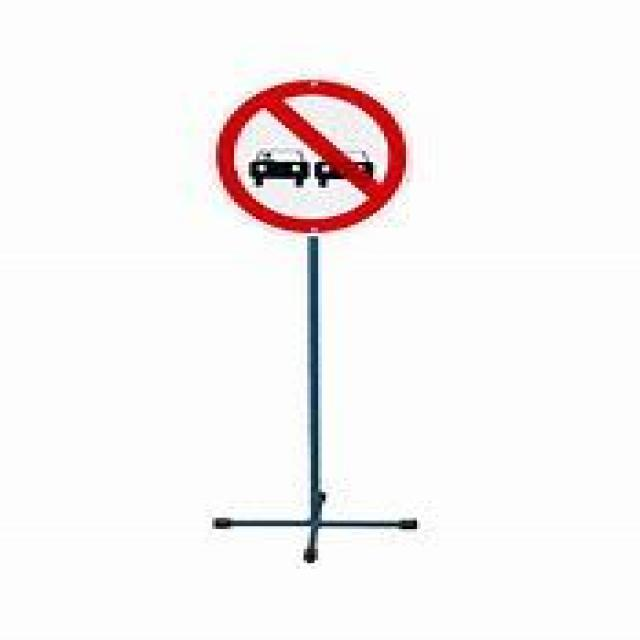OVERTAKING_PROHIBITED: (220, 76, 414, 232)
